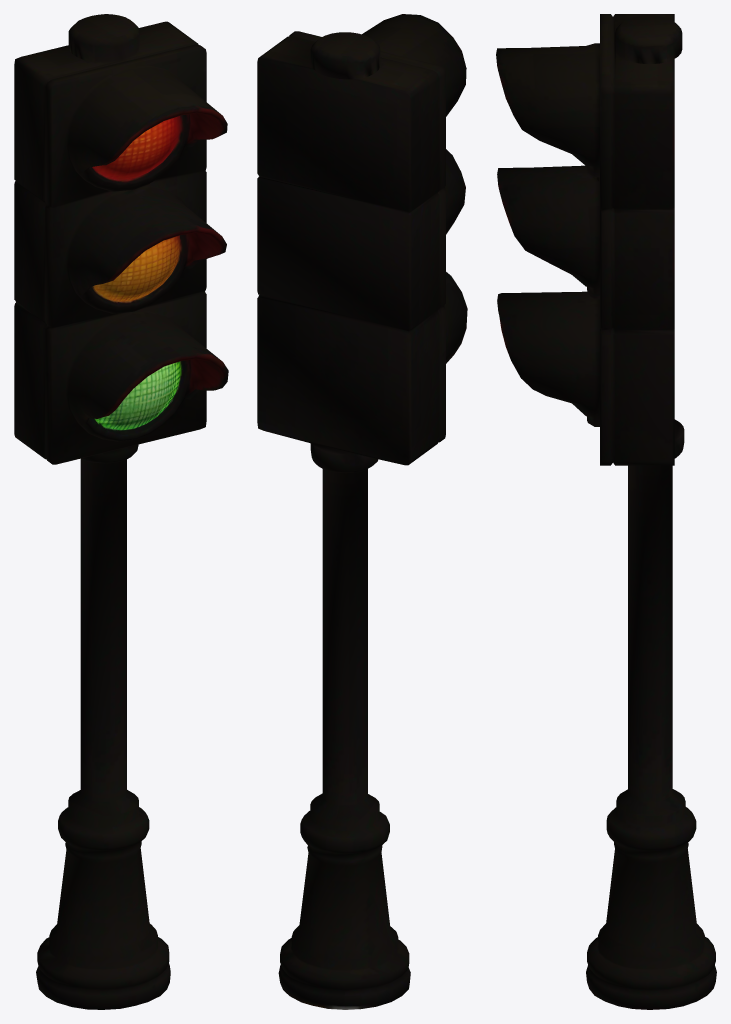
Rendered from Outdoor__single_traffic_light_pole_37952056_v3.cluster.glb.
The picture shows the model from 3 angles, left to right: view 1: azimuth 30°, elevation 25°; view 2: azimuth 150°, elevation 25°; view 3: azimuth 270°, elevation 25°; orthographic projection. The views are drawn at different scales.
Visible parts, largest first — view 1: material; view 2: material; view 3: material.
Part boxes in pixels (<box>): material: <box>14,14,228,1009</box>; material: <box>257,14,467,1009</box>; material: <box>496,14,716,1009</box>.
Size of the model in its own units: 0.3261 by 1.9 by 0.3984.
Materials: 1 (1 with a texture image).
